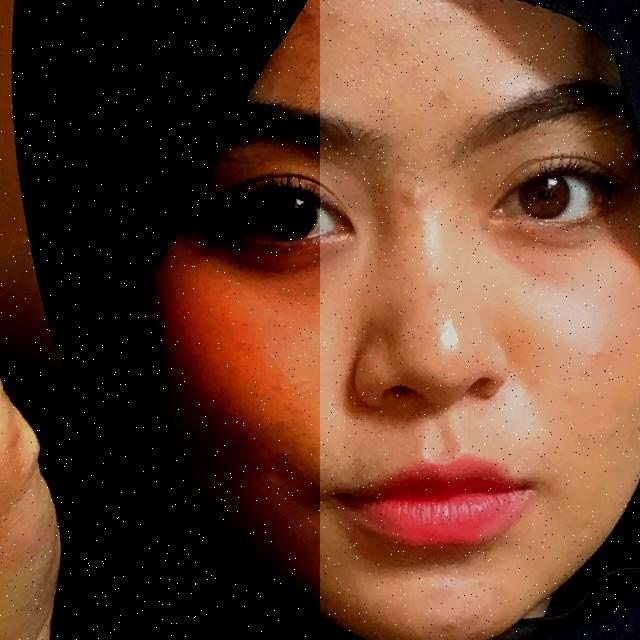kapan: (0, 0, 320, 640)
